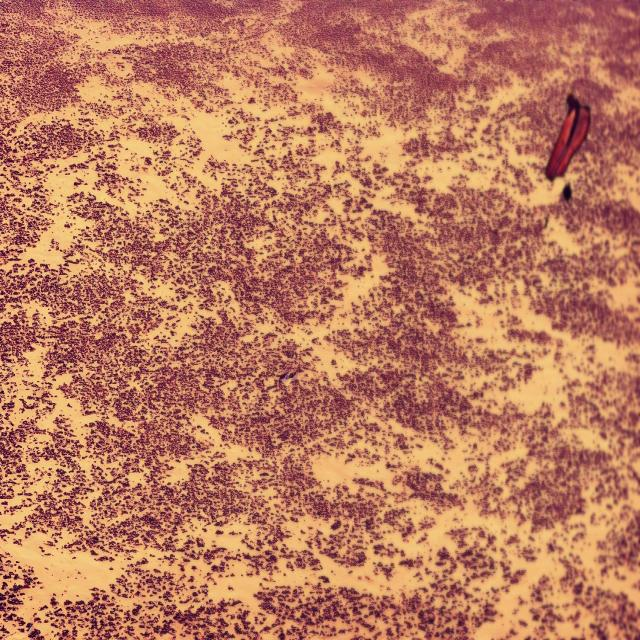airplane: (544, 91, 591, 182)
